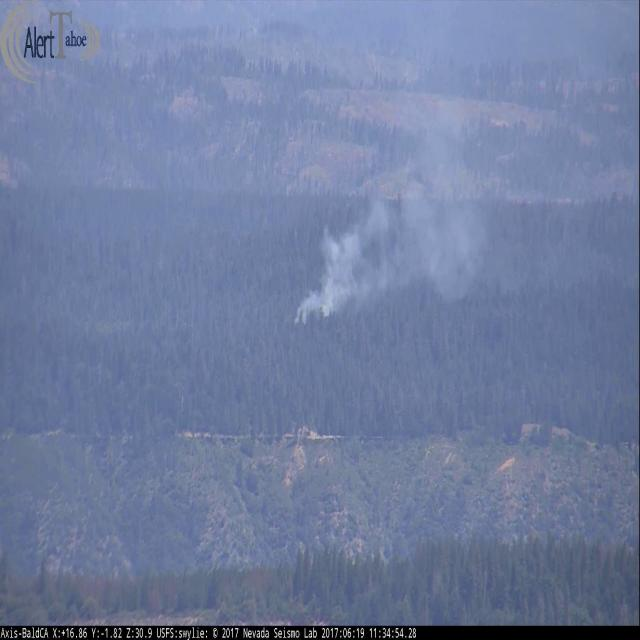smoke: (286, 124, 520, 336)
